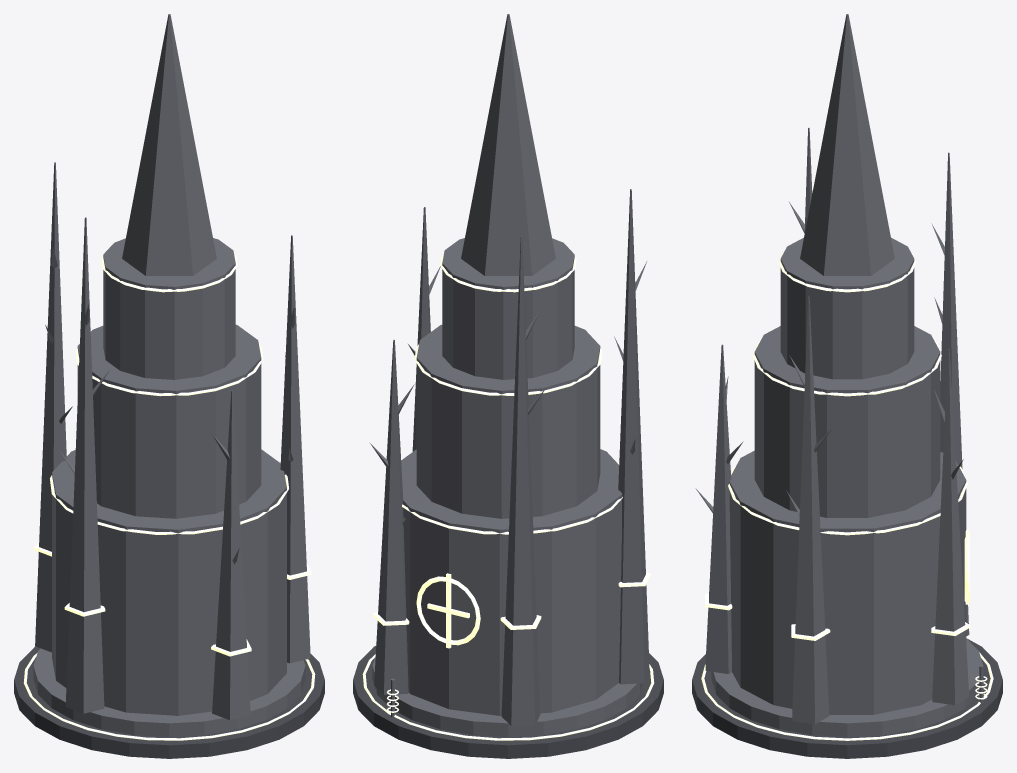
Rendered from zone_high_3_t4.glb.
3 views of the same model, side by side, from view 1: azimuth 30°, elevation 25°; view 2: azimuth 150°, elevation 25°; view 3: azimuth 270°, elevation 25° (orthographic).
Visible parts, largest first — view 1: zone_high_3_t4; view 2: zone_high_3_t4; view 3: zone_high_3_t4.
Boxes of the visible parts, x1=… form: zone_high_3_t4: x1=14, y1=14, x2=324, y2=758; zone_high_3_t4: x1=353, y1=14, x2=663, y2=758; zone_high_3_t4: x1=692, y1=14, x2=1002, y2=758.
Bounding box in the file's own units: 28.8 × 69.4 × 28.8.
